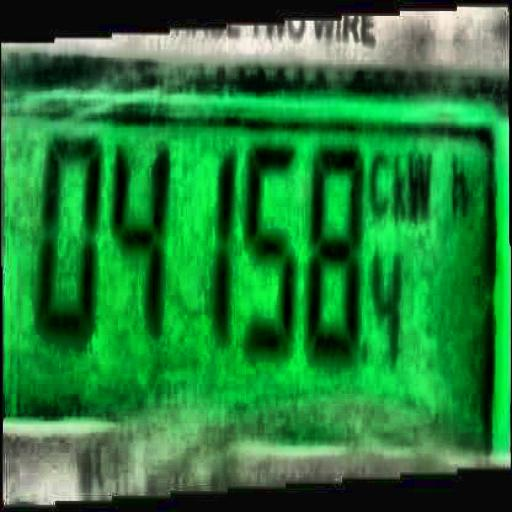SERIAL_REGION: (34, 127, 441, 362)
